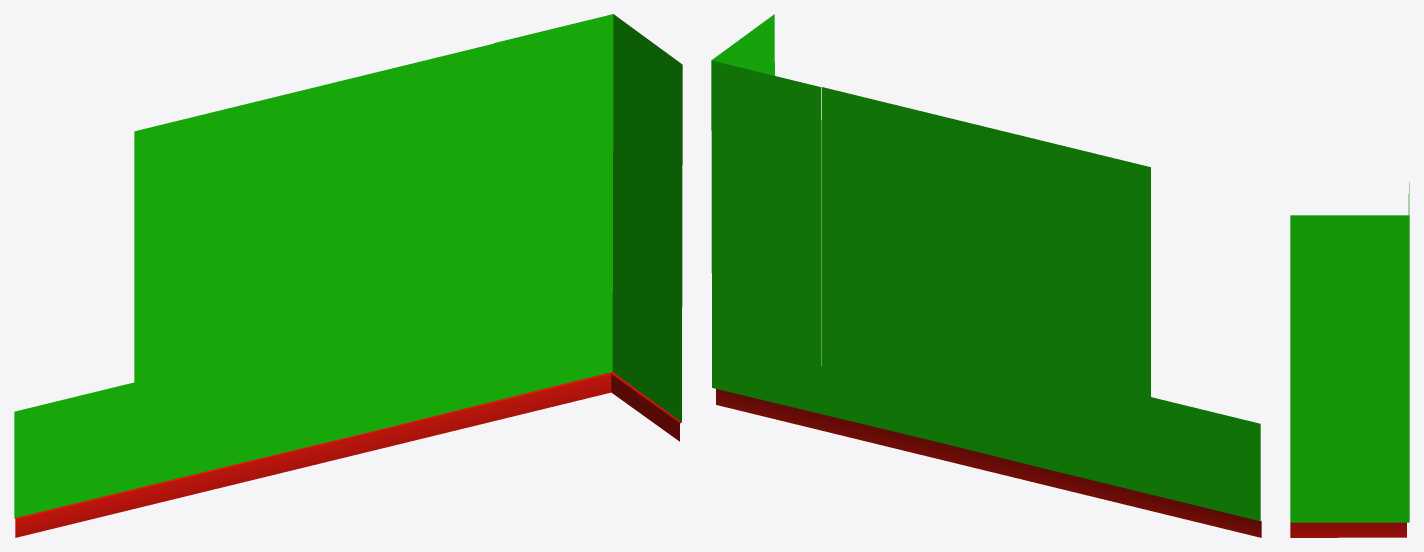
File: Modular_Wall.fbx
3 renders of one model, left to right at view 1: azimuth 30°, elevation 25°; view 2: azimuth 150°, elevation 25°; view 3: azimuth 270°, elevation 25°, orthographic. The views are drawn at different scales.
Visible parts, largest first — view 1: Wall_2m, Wall_Corner, Wall_1M, Wall_win; view 2: Wall_2m, Wall_Corner, Wall_1M, Wall_win; view 3: Wall_Corner.
Part boxes in pixels (box(x1,y1,x2,y2)): Wall_2m: box(254, 43, 494, 479); Wall_Corner: box(494, 14, 682, 441); Wall_1M: box(134, 102, 255, 508); Wall_win: box(14, 382, 135, 537); Wall_2m: box(821, 87, 1041, 484); Wall_Corner: box(711, 14, 822, 430); Wall_1M: box(1041, 140, 1151, 510); Wall_win: box(1151, 397, 1261, 537); Wall_Corner: box(1290, 182, 1409, 537).
Bounding box in the file's own units: 500 × 100 × 300.
